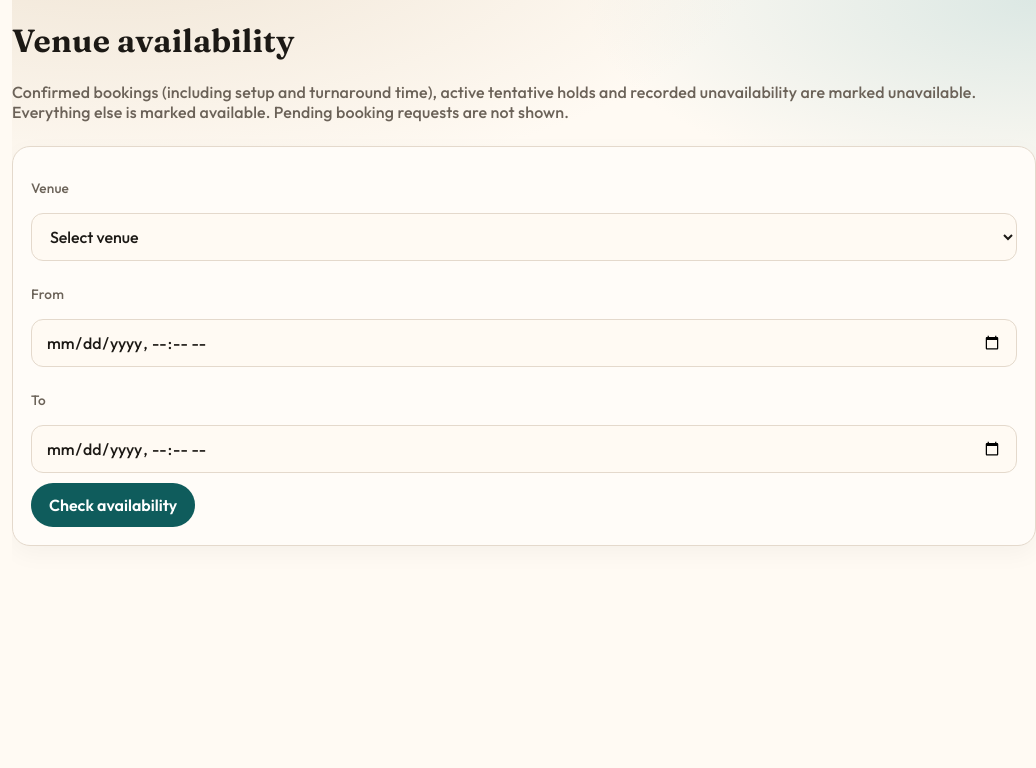
Test: SCRUM-67 Existing bookings list › US67-F03 (AC5): Technical Support does not request or see the bookings list
Select "Helix Hall" in the dropdown labelled "Venue": (524, 237) [31,213,1017,261]
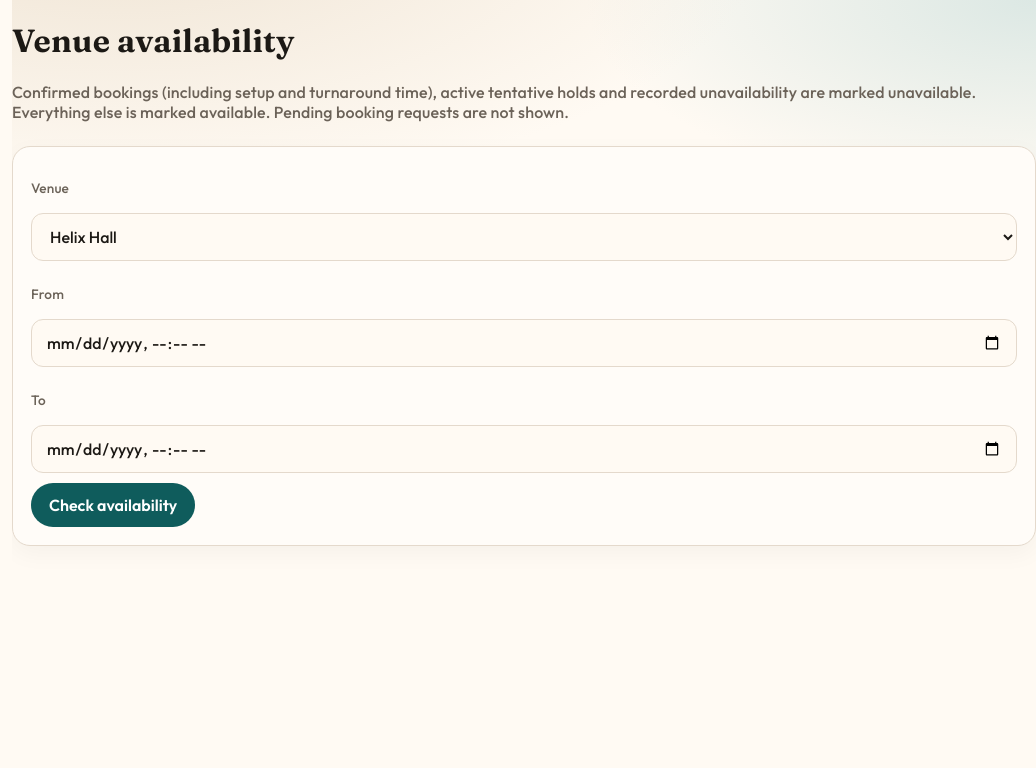
In the field labelled "From": (524, 343) [31,319,1017,367], type "2026-10-20T08:00"
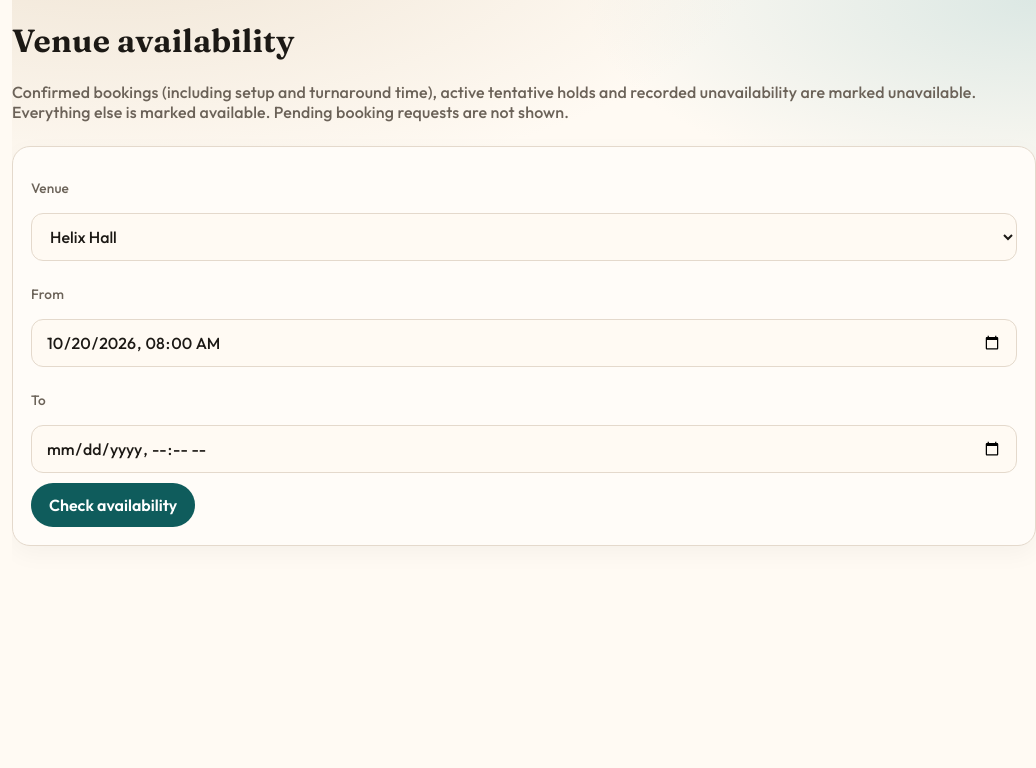
In the field labelled "To": (524, 449) [31,425,1017,473], type "2026-10-20T14:00"
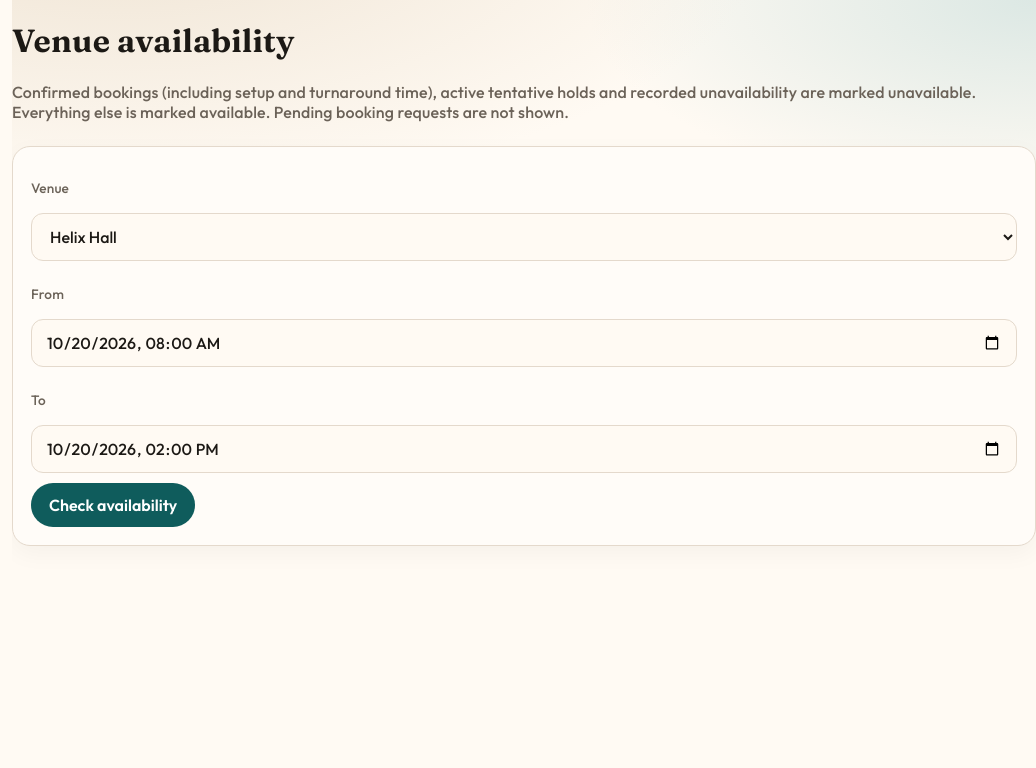
Click the button "Check availability": (113, 505) [31,483,195,527]
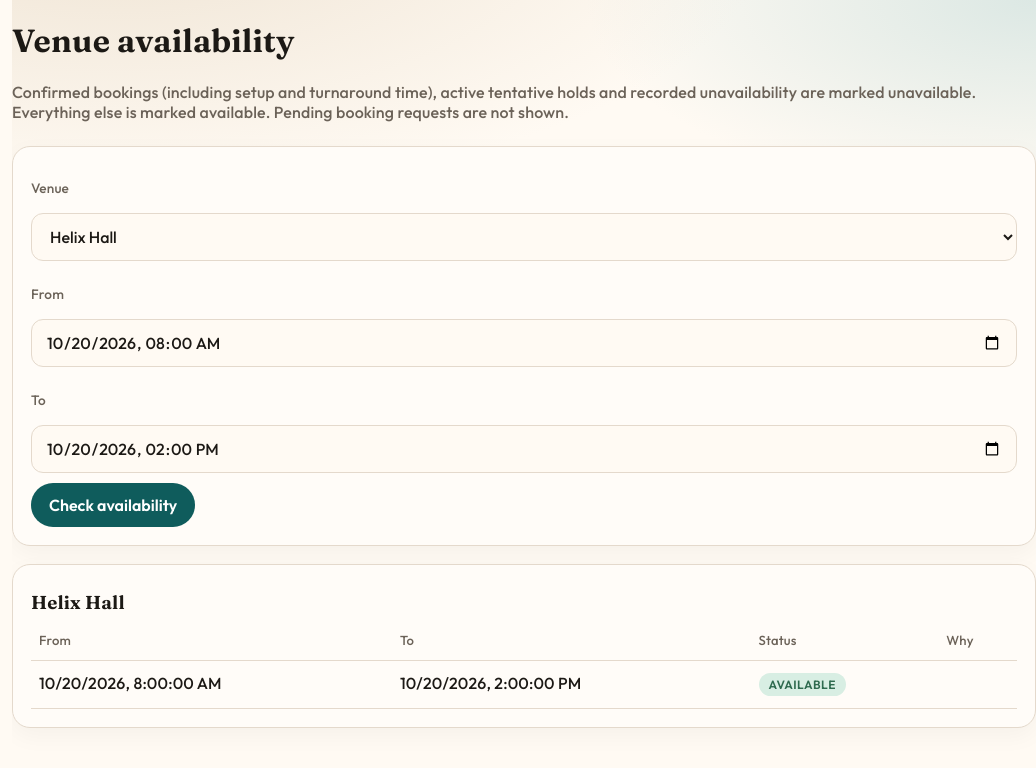
Now the heading "Helix Hall" is shown, box [31,591,125,614]
